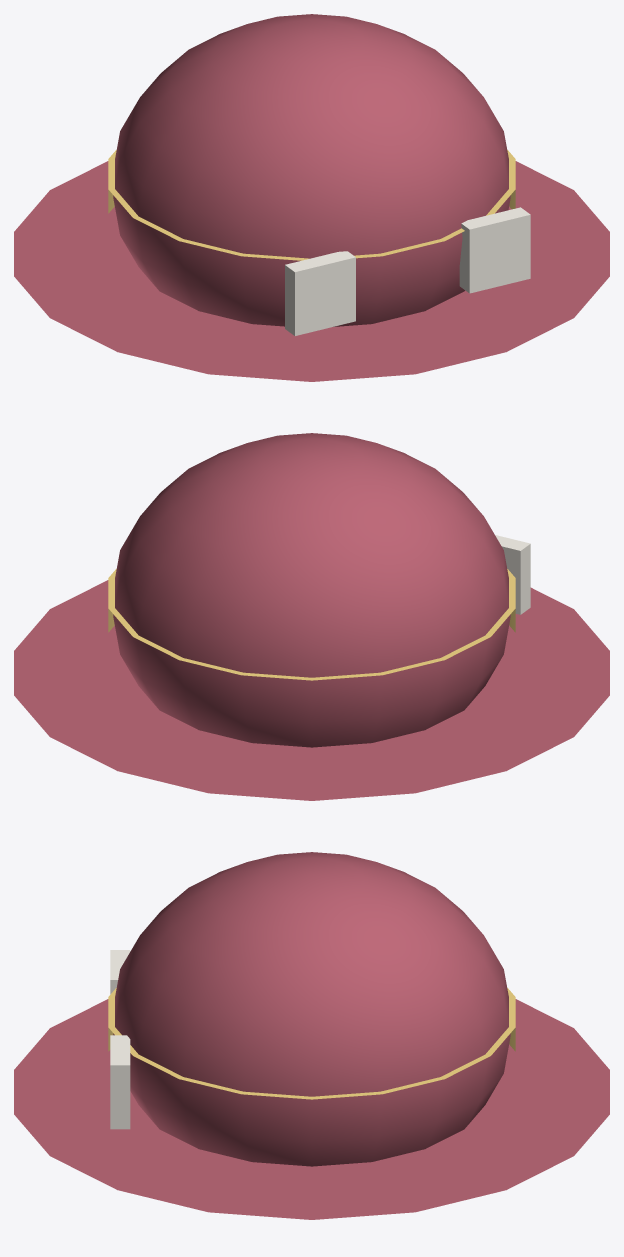
The model's file is showman-bowler.glb.
3 views of the same model, one above another, from view 1: azimuth 30°, elevation 25°; view 2: azimuth 150°, elevation 25°; view 3: azimuth 270°, elevation 25° (orthographic).
Visible parts, largest first — view 1: showman-bowler; view 2: showman-bowler; view 3: showman-bowler.
Part boxes in pixels (left/top/right/bottom): showman-bowler: left=14, top=14, right=609, bottom=381; showman-bowler: left=14, top=433, right=609, bottom=800; showman-bowler: left=14, top=852, right=609, bottom=1219.
Bounding box in the file's own units: 0.6 × 0.32 × 0.5909.
